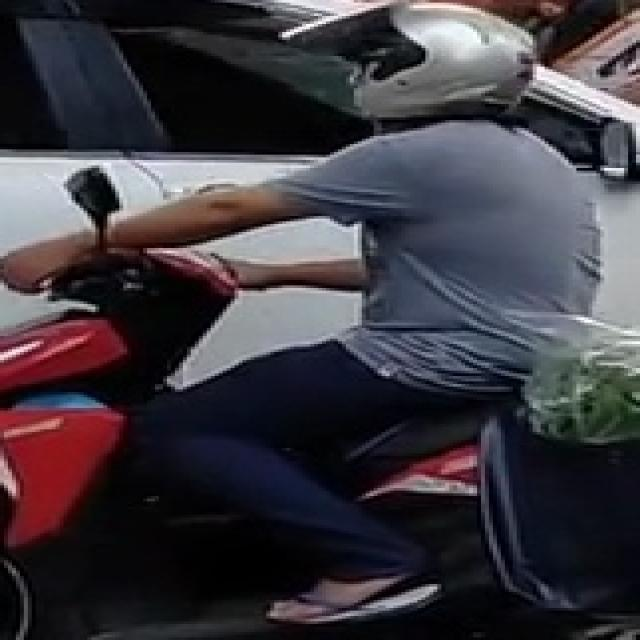door: (0, 0, 636, 637)
helmet: (342, 0, 537, 120)
